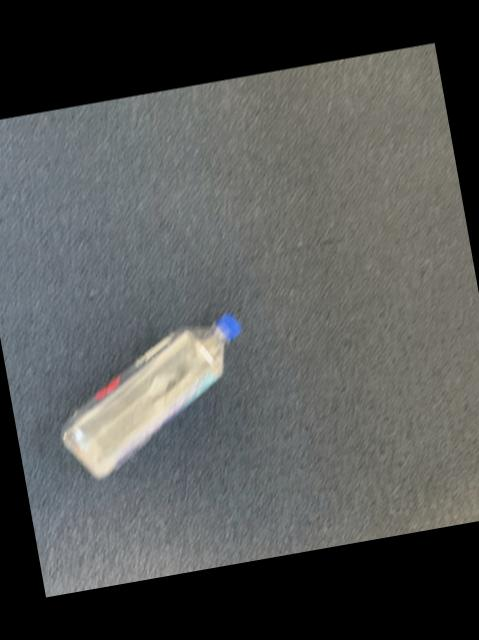plastic: (59, 315, 237, 479)
